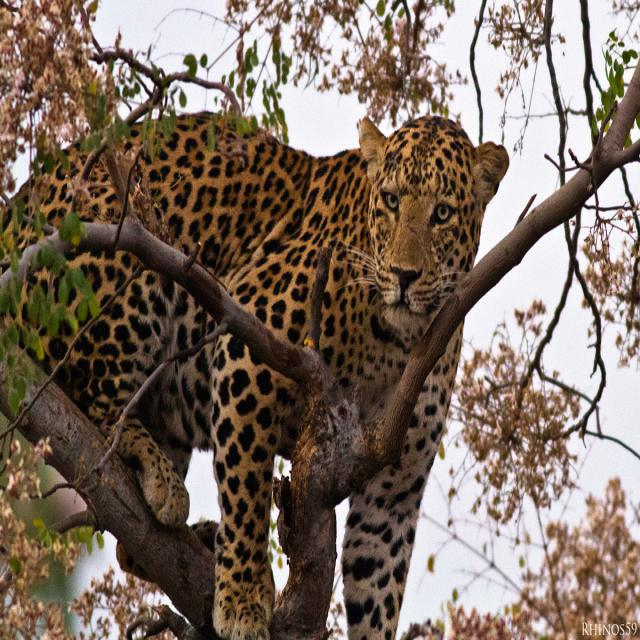Leopard: (19, 117, 508, 640)
